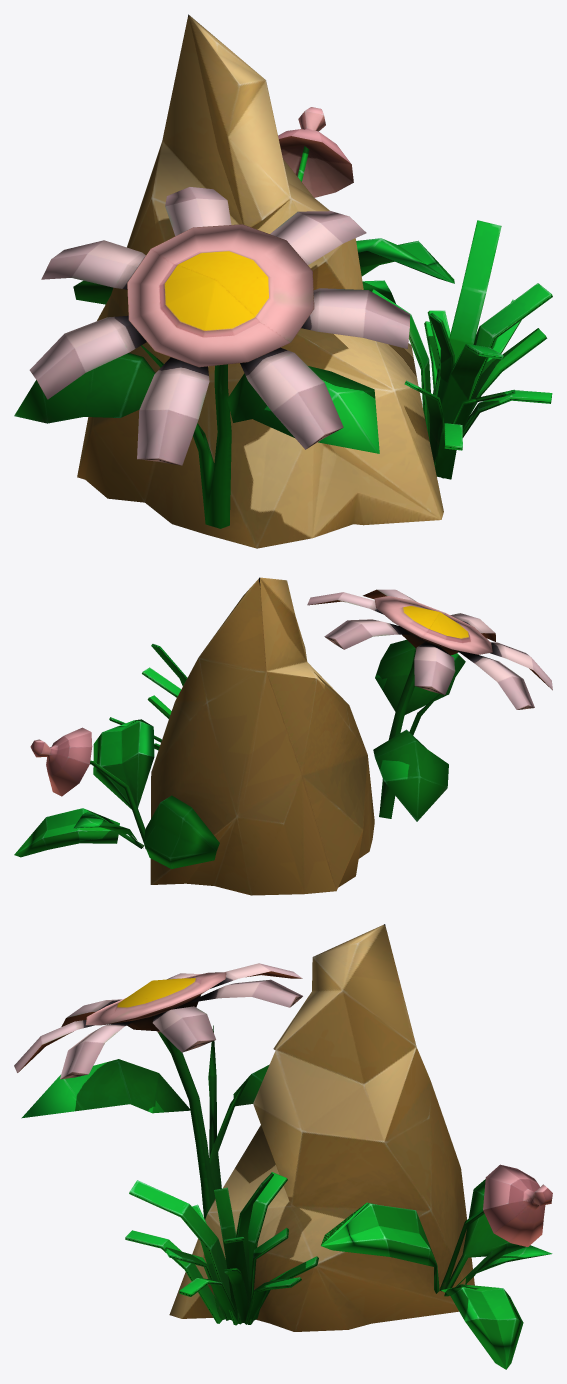
The model's file is stone.fbx.
3 views of the same model, one above another, from view 1: azimuth 30°, elevation 25°; view 2: azimuth 150°, elevation 25°; view 3: azimuth 270°, elevation 25° (orthographic). The views are drawn at different scales.
Parts seen in each view (by area): view 1: rock:polySurface9; view 2: rock:polySurface9; view 3: rock:polySurface9.
Boxes of the visible parts, x1,y1,x2,y2 form: rock:polySurface9: [14, 14, 552, 548]; rock:polySurface9: [14, 577, 552, 895]; rock:polySurface9: [14, 924, 552, 1369].
Bounding box in the file's own units: 439 × 326 × 461.
